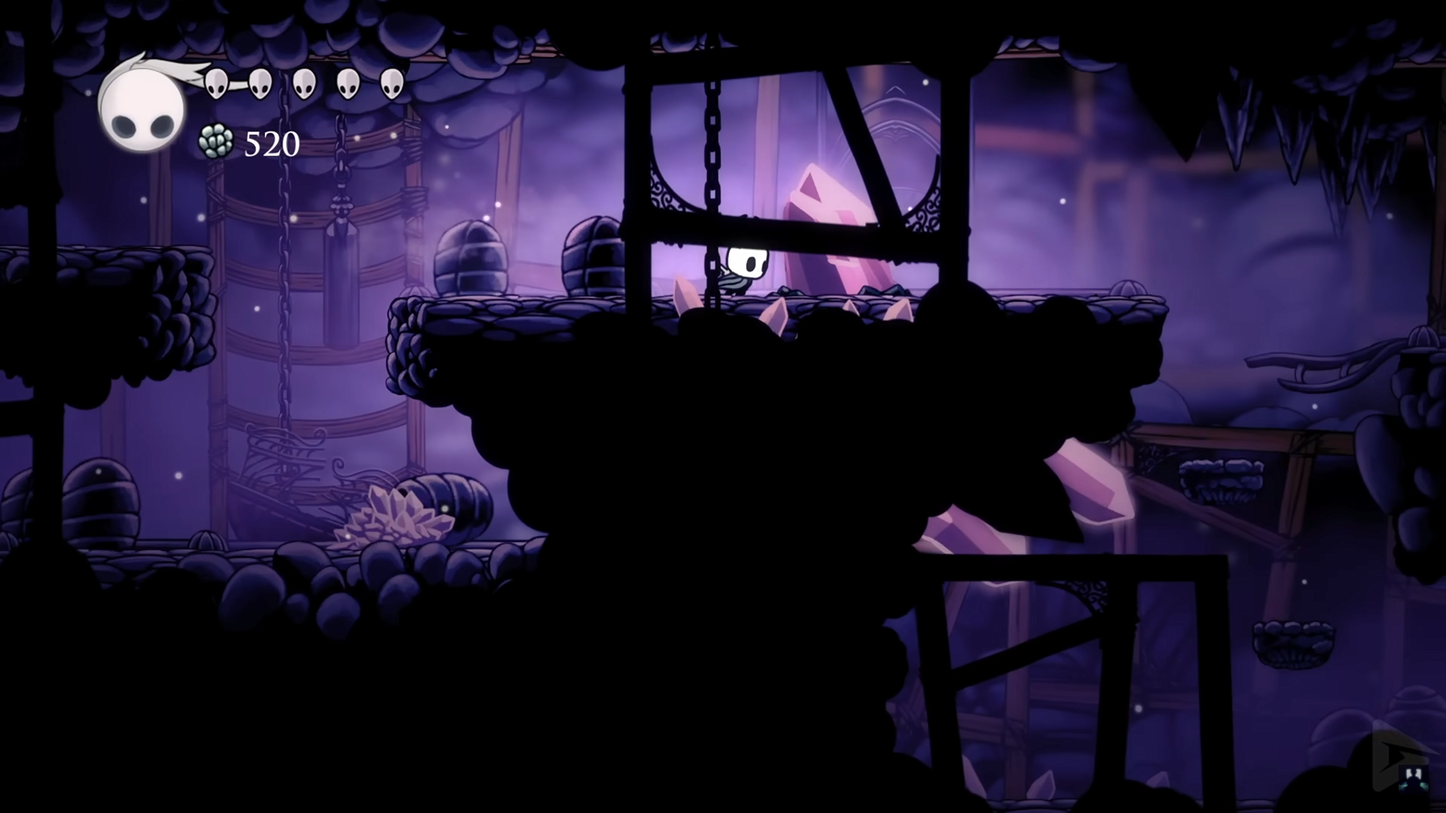HK: (702, 208, 778, 301)
